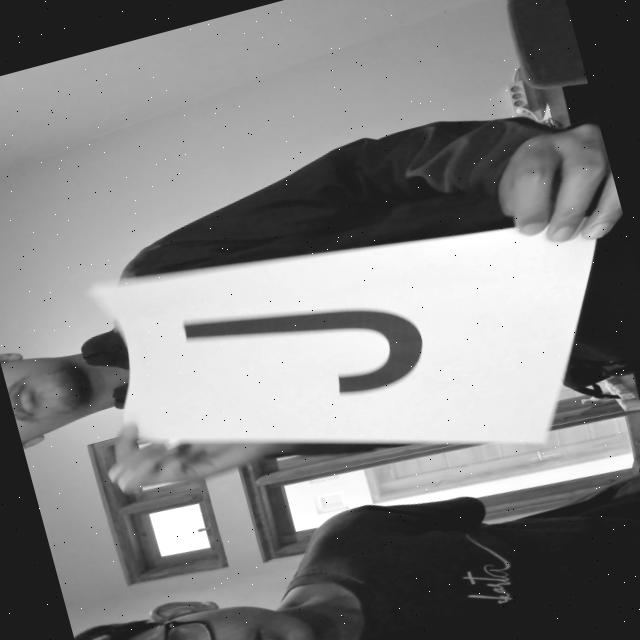j: (172, 257, 436, 440)
